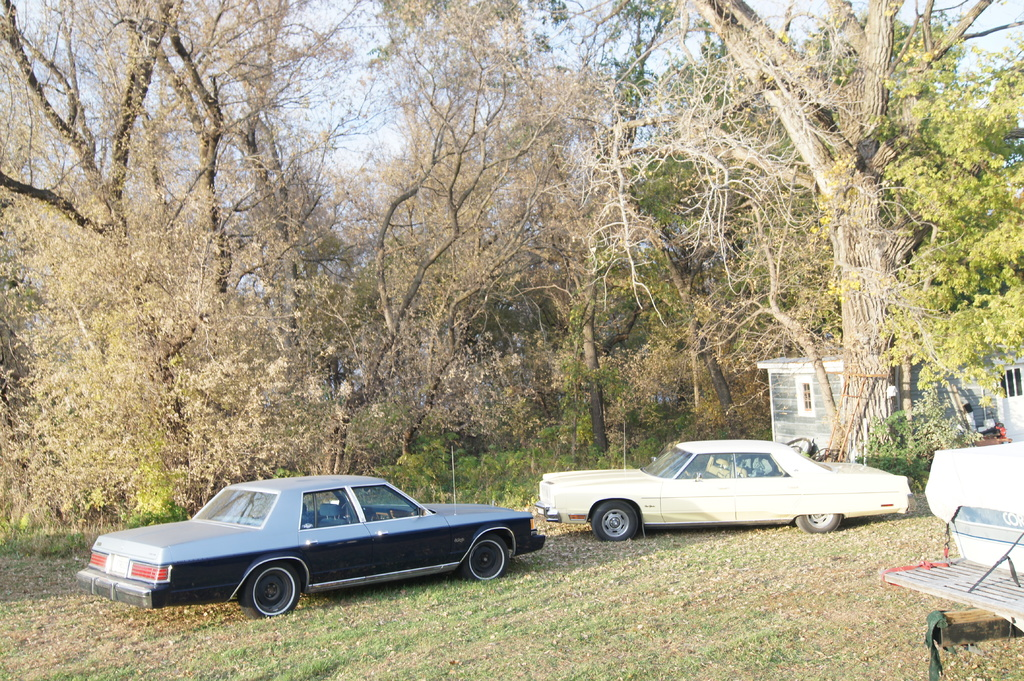Car: (90, 479, 544, 622), (533, 419, 917, 542)
